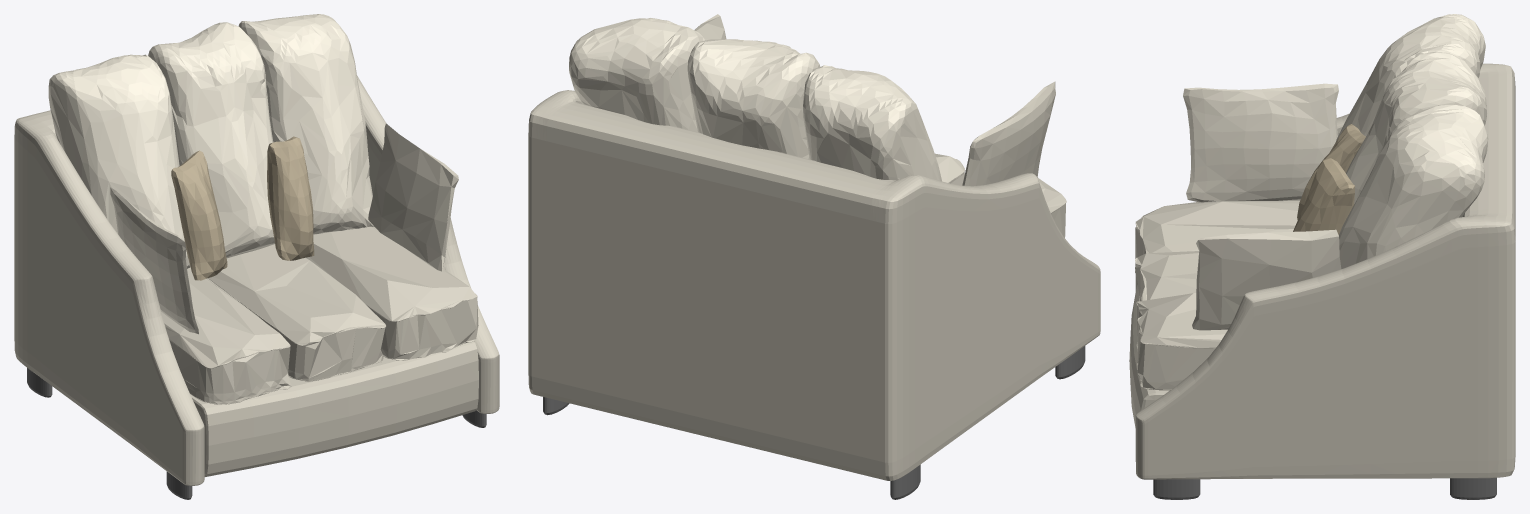
File: sh-scopia-beige-sofa.glb
3 renders of one model, left to right at view 1: azimuth 30°, elevation 25°; view 2: azimuth 150°, elevation 25°; view 3: azimuth 270°, elevation 25°, orthographic. The views are drawn at different scales.
Parts seen in each view (by area): view 1: back_Plane.001, bigcushion3_Cube.015, cushion_clear3_Cube.007, cushion_dark_Cube.028, leg2_Cylinder.001; view 2: back_Plane.001, bigcushion3_Cube.015, cushion_clear3_Cube.007, leg2_Cylinder.001; view 3: back_Plane.001, bigcushion3_Cube.015, cushion_clear3_Cube.007, cushion_dark_Cube.028, leg2_Cylinder.001.
Boxes of the visible parts, left/top/right/bottom form: back_Plane.001: left=14, top=75, right=499, bottom=485; bigcushion3_Cube.015: left=48, top=14, right=374, bottom=268; cushion_clear3_Cube.007: left=110, top=123, right=458, bottom=334; cushion_dark_Cube.028: left=171, top=136, right=314, bottom=280; leg2_Cylinder.001: left=27, top=368, right=486, bottom=499; back_Plane.001: left=528, top=90, right=1100, bottom=480; bigcushion3_Cube.015: left=569, top=18, right=941, bottom=181; cushion_clear3_Cube.007: left=694, top=14, right=1055, bottom=186; leg2_Cylinder.001: left=543, top=346, right=1085, bottom=499; back_Plane.001: left=1129, top=63, right=1515, bottom=479; bigcushion3_Cube.015: left=1336, top=14, right=1488, bottom=268; cushion_clear3_Cube.007: left=1183, top=83, right=1341, bottom=330; cushion_dark_Cube.028: left=1293, top=124, right=1365, bottom=234; leg2_Cylinder.001: left=1153, top=478, right=1496, bottom=499.
Bounding box in the file's own units: 1 × 1 × 1.
